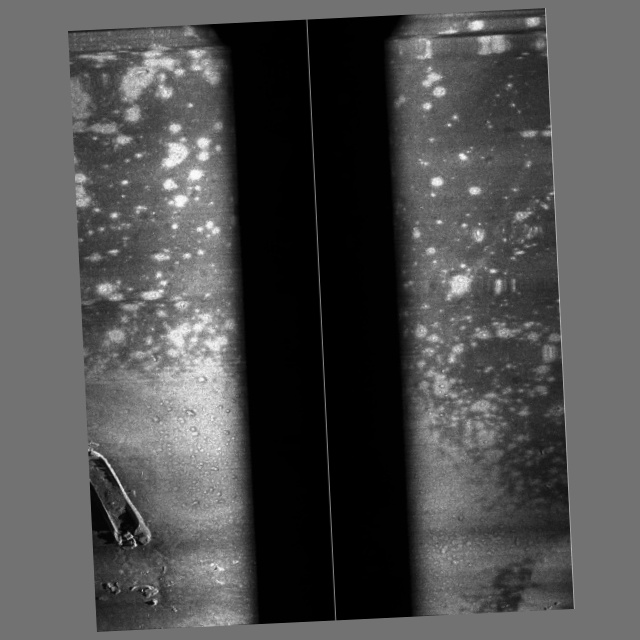Shipwreck: (87, 434, 240, 620)
